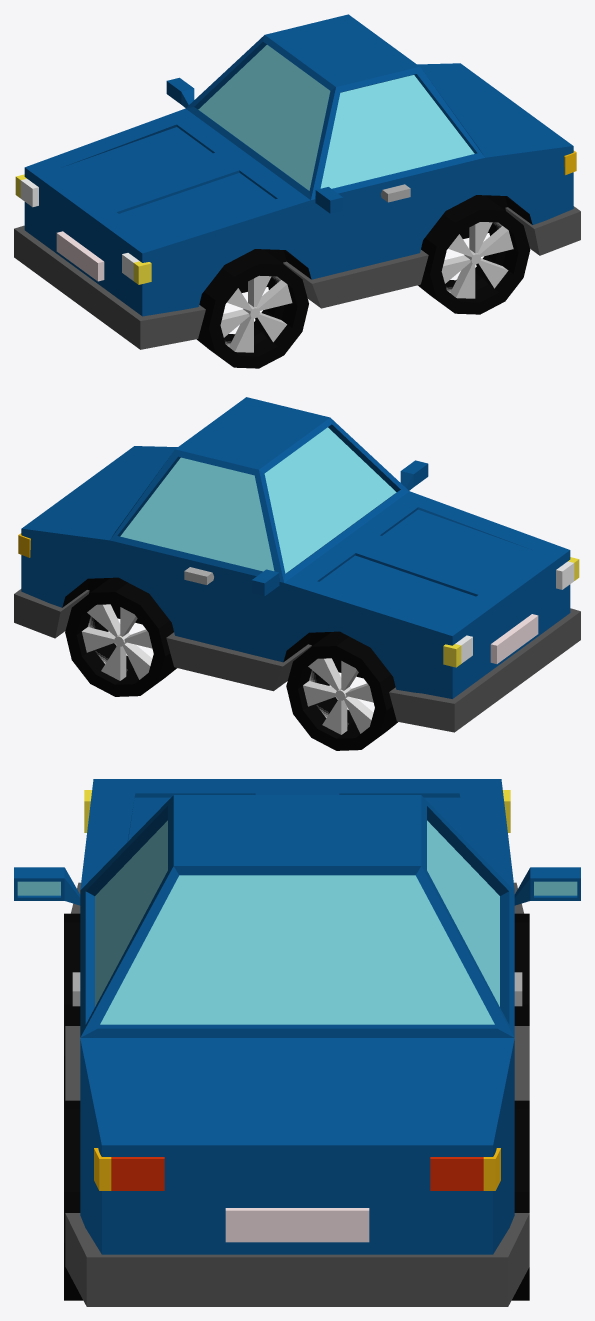
Rendered from car4.fbx.
3 renders of one model, top to bottom at view 1: azimuth 30°, elevation 25°; view 2: azimuth 150°, elevation 25°; view 3: azimuth 270°, elevation 25°, orthographic. The views are drawn at different scales.
Visible parts, largest first — view 1: Car.001; view 2: Car.001; view 3: Car.001.
Part boxes in pixels (box(x1,y1,x2,y2)): Car.001: box(14, 14, 580, 368); Car.001: box(14, 397, 580, 750); Car.001: box(14, 779, 580, 1306).
Bounding box in the file's own units: 3.25 × 1.62 × 2.08.
